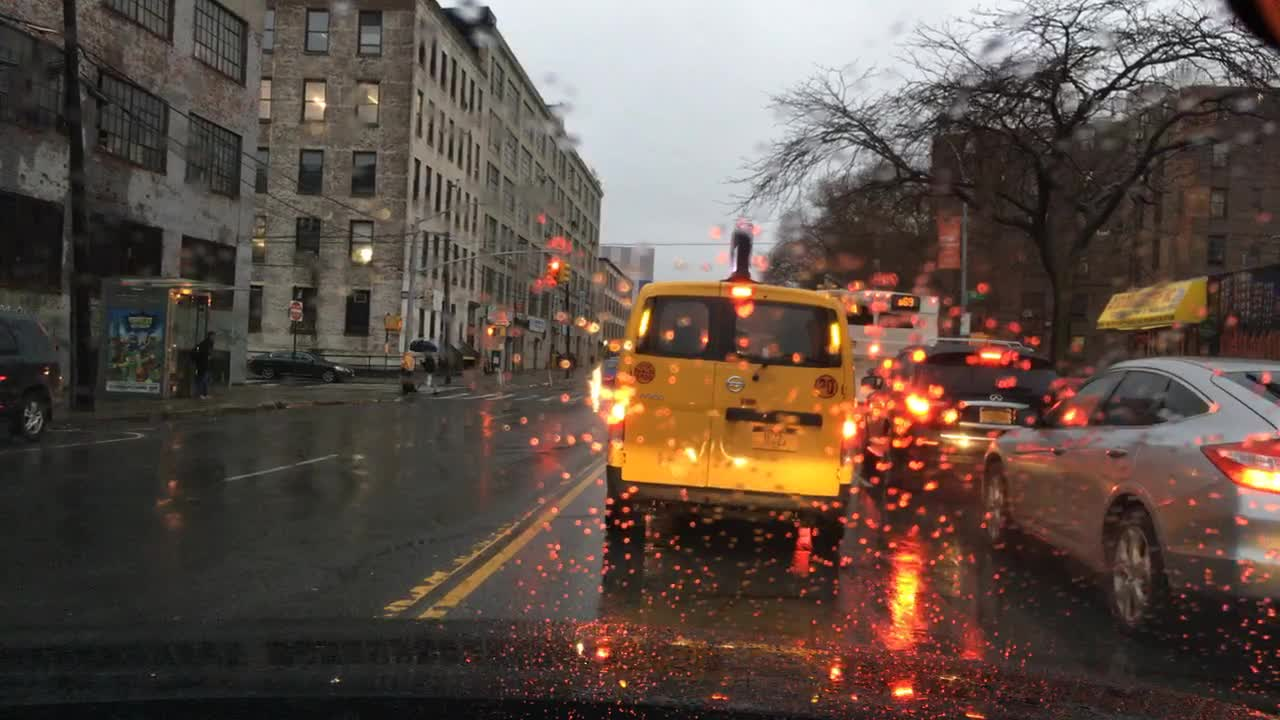car: (978, 350, 1278, 640), (604, 226, 859, 558), (859, 335, 1072, 514), (813, 287, 941, 390), (0, 312, 65, 444)
person: (191, 329, 218, 402), (410, 339, 439, 387), (459, 338, 481, 390), (397, 348, 418, 397), (439, 341, 456, 384)
traffic sign: (287, 299, 304, 324), (493, 316, 510, 328)
